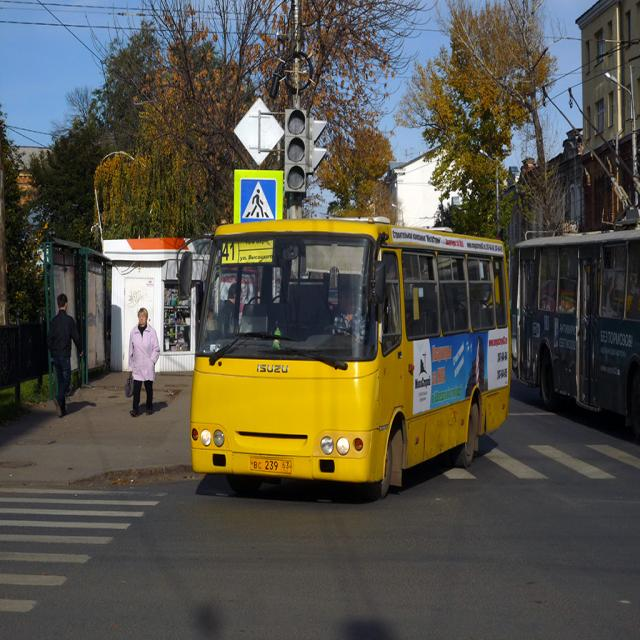number-of-bus: (223, 242, 238, 263)
